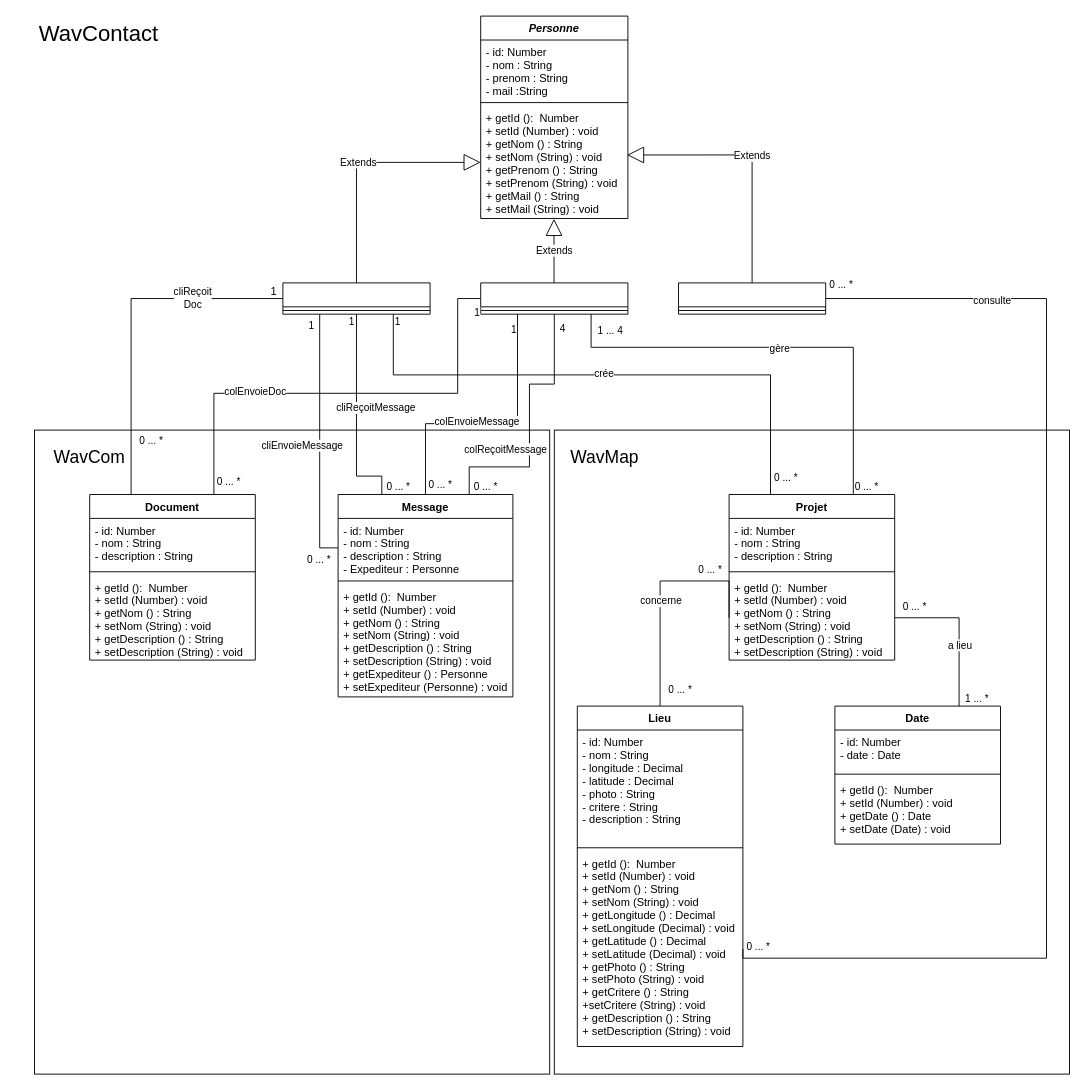
Image size: 1086x1090. Some labels were removed from this diagram. Here are the shapes that lost their labels. From the top down, the centre of each, then its label:
the point at 356,298: Client
the point at 554,298: Collaborateur
the point at 752,298: Photographe
